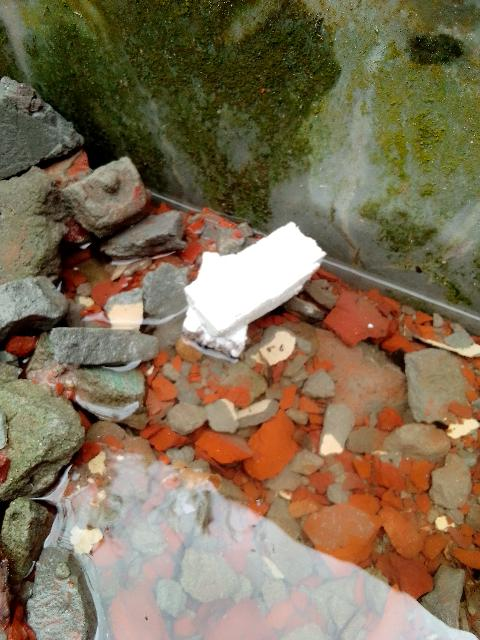cocksheet: (176, 201, 345, 380)
